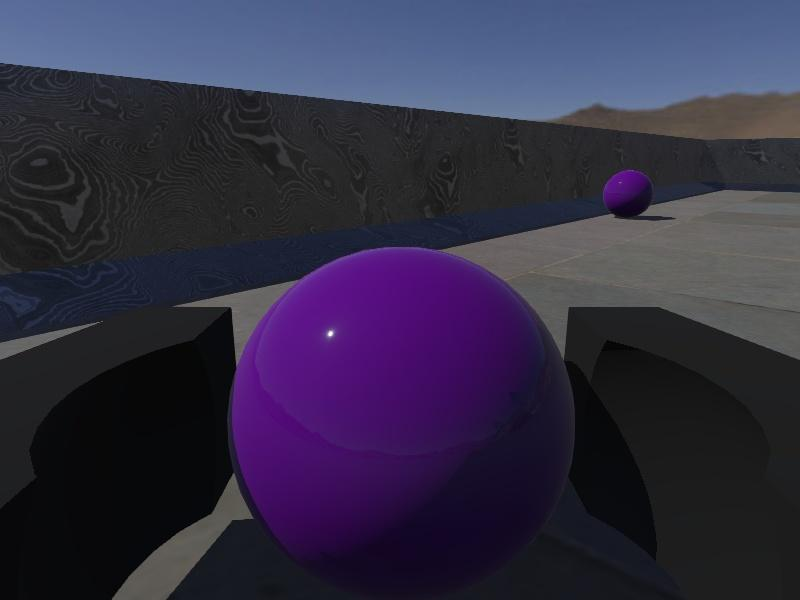violet ball: (227, 245, 576, 600), (602, 168, 654, 220)
